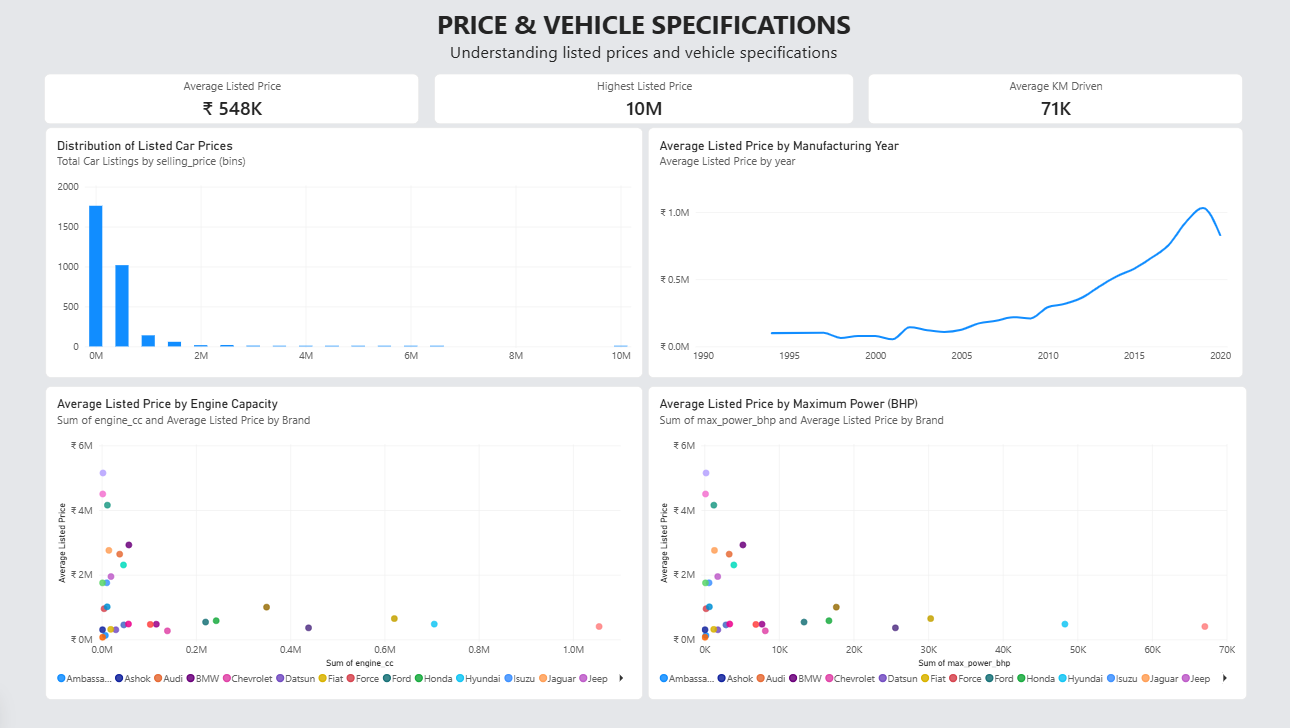

Layout of this report page (visuals, bound fields, positions):
{"tool":"powerbi","page":{"name":"Price & Vehicle Specifications Analysis","canvas":[1920,1080],"ordinal":4},"visuals":[{"type":"textbox","box":[82,16,1744,98],"z":0},{"type":"cardVisual","fields":{"Data":["car_sales_db car_sales.Average Listed Price"]},"box":[81.7,115,545,73.3],"z":1000},{"type":"cardVisual","fields":{"Data":["car_sales_db car_sales.Highest Listed Price"]},"box":[648.3,115,610,73.3],"z":2000},{"type":"cardVisual","fields":{"Data":["car_sales_db car_sales.Average KM Driven"]},"box":[1280,115,545,73.3],"z":3000},{"type":"clusteredColumnChart","title":"Distribution of Listed Car Prices","fields":{"Category":["car_sales_db car_sales.selling_price (bins)"],"Y":["car_sales_db car_sales.Total Car Listings"]},"box":[83.6,192.7,869.1,363.6],"z":4000},{"type":"lineChart","title":"Average Listed Price by Manufacturing Year","fields":{"Category":["car_sales_db car_sales.year"],"Y":["car_sales_db car_sales.Average Listed Price"]},"box":[960,192.7,865.5,363.6],"z":5000},{"type":"scatterChart","title":"Average Listed Price by Engine Capacity","fields":{"Series":["car_sales_db car_sales.Brand"],"X":["Sum(car_sales_db car_sales.engine_cc)"],"Y":["car_sales_db car_sales.Average Listed Price"]},"box":[83.6,569.1,869.1,456.4],"z":6000},{"type":"scatterChart","title":"Average Listed Price by Maximum Power (BHP)","fields":{"Series":["car_sales_db car_sales.Brand"],"X":["Sum(car_sales_db car_sales.max_power_bhp)"],"Y":["car_sales_db car_sales.Average Listed Price"]},"box":[960,569.1,870.9,456.4],"z":7000}]}

Visuals, with their boxes in screenshot pixels (x1, y1, x2, y2), scaled from the page's 1920x1080 canvas onto the 1290x728 screenshot:
textbox: box(55, 11, 1227, 77)
cardVisual - car_sales_db car_sales.Average Listed Price: box(55, 78, 421, 127)
cardVisual - car_sales_db car_sales.Highest Listed Price: box(436, 78, 845, 127)
cardVisual - car_sales_db car_sales.Average KM Driven: box(860, 78, 1226, 127)
"Distribution of Listed Car Prices" clusteredColumnChart: box(56, 130, 640, 375)
"Average Listed Price by Manufacturing Year" lineChart: box(645, 130, 1227, 375)
"Average Listed Price by Engine Capacity" scatterChart: box(56, 384, 640, 691)
"Average Listed Price by Maximum Power (BHP)" scatterChart: box(645, 384, 1230, 691)
